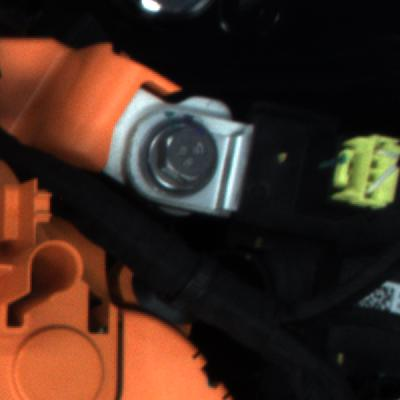nut_b: (132, 114, 234, 204)
